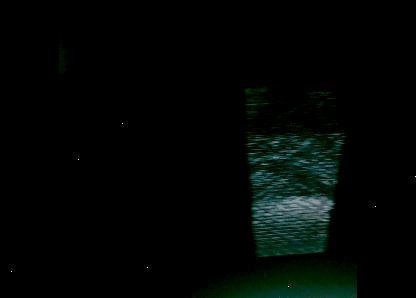Others: (242, 84, 350, 258)
